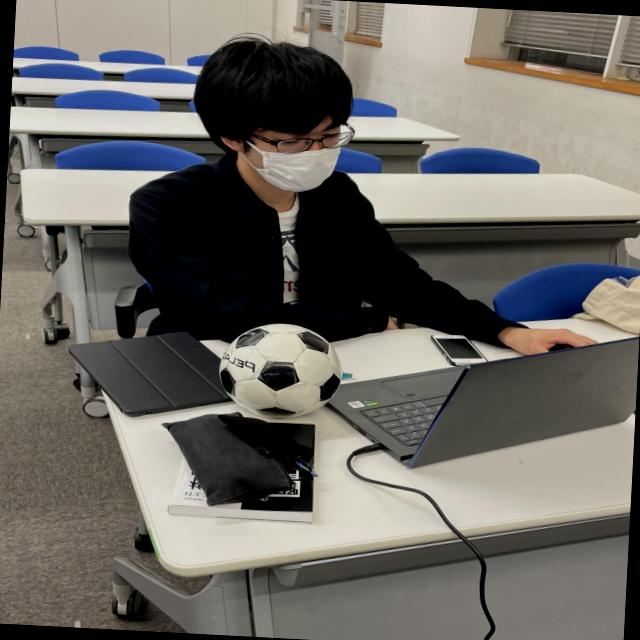Soccer Ball: (214, 322, 346, 423)
